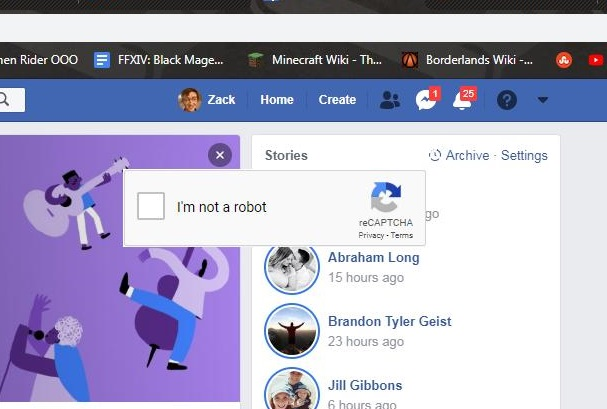captcha: (138, 192, 268, 221)
